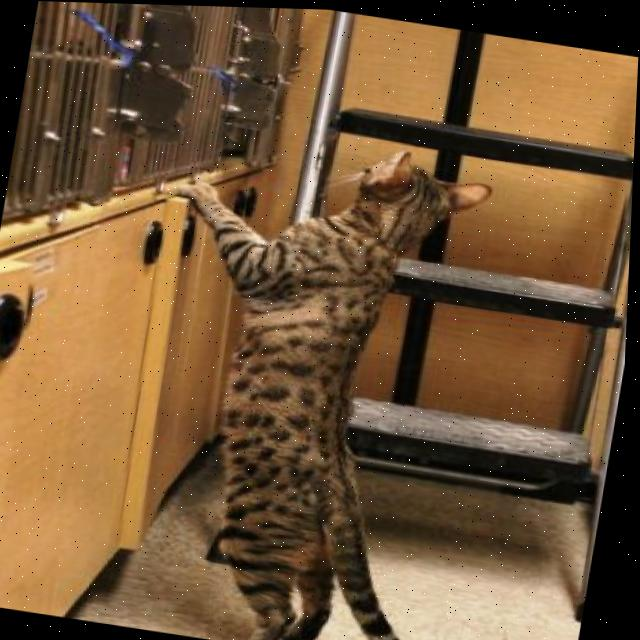Egyptian Mau: (96, 105, 540, 640)
